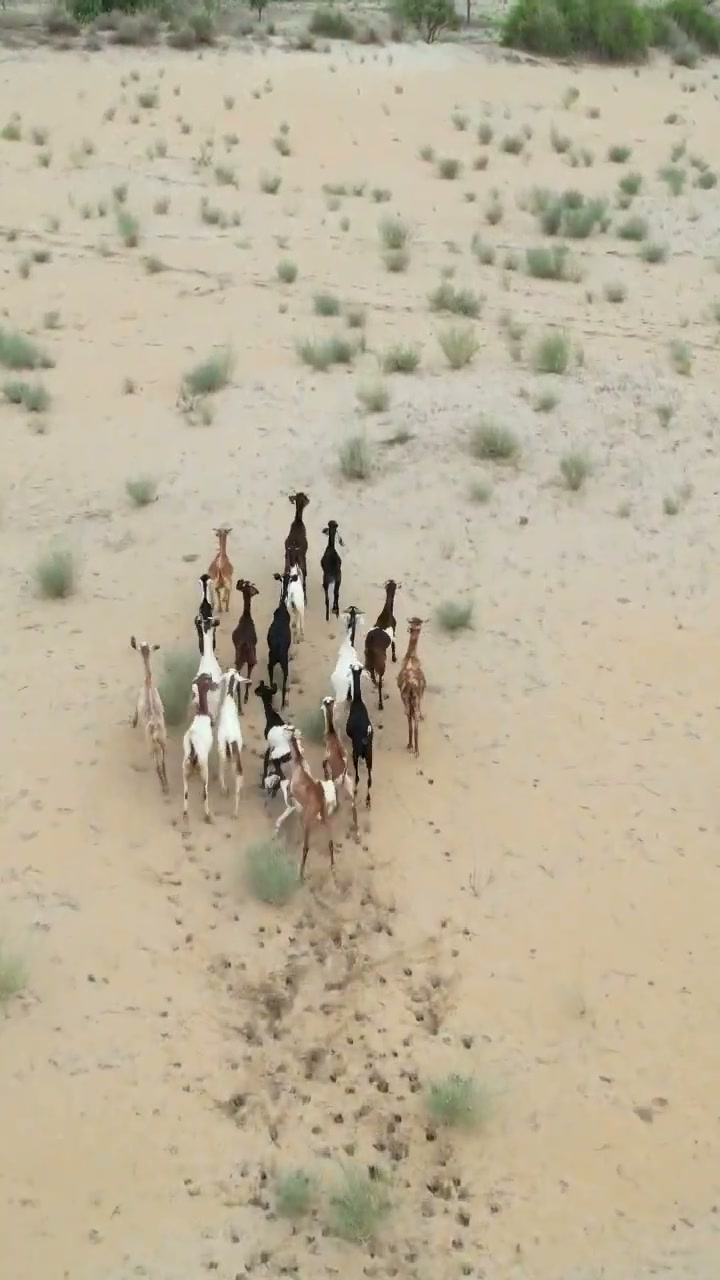animal_foot_print: (155, 800, 533, 1279)
